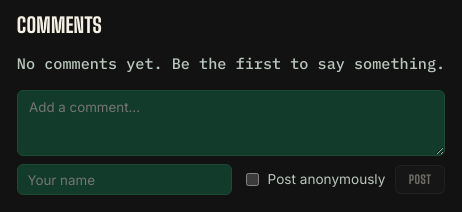
Test: CommentsSection › disables posting until a comment and either a name or anonymous is provided
Expected: the list item "No comments yet. Be the first to say something." is shown, [17,52,445,74]
Expected: the button "Post" is disabled, [395,165,445,194]
Type "Nice work" into the text box labelled "comment" at point(231, 123), box [17,90,445,156]
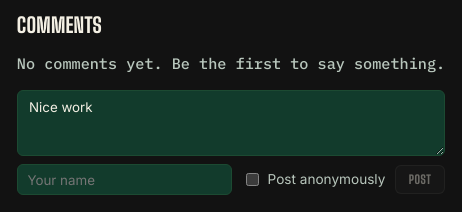
Expected: the button "Post" is disabled, [395,165,445,194]
Type "Bob" into the field labelled "Your name" at point(125, 180), box [17,164,232,195]
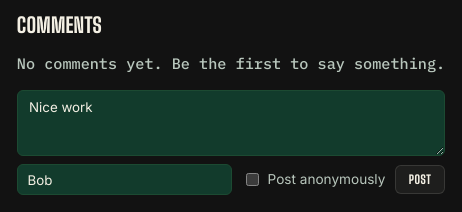
Expected: the button "Post" is enabled, [395,165,445,194]
